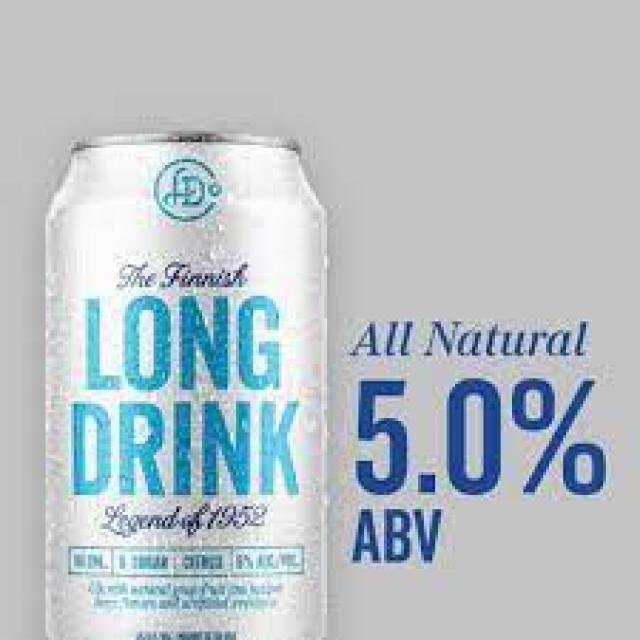Cans: (34, 122, 344, 640)
